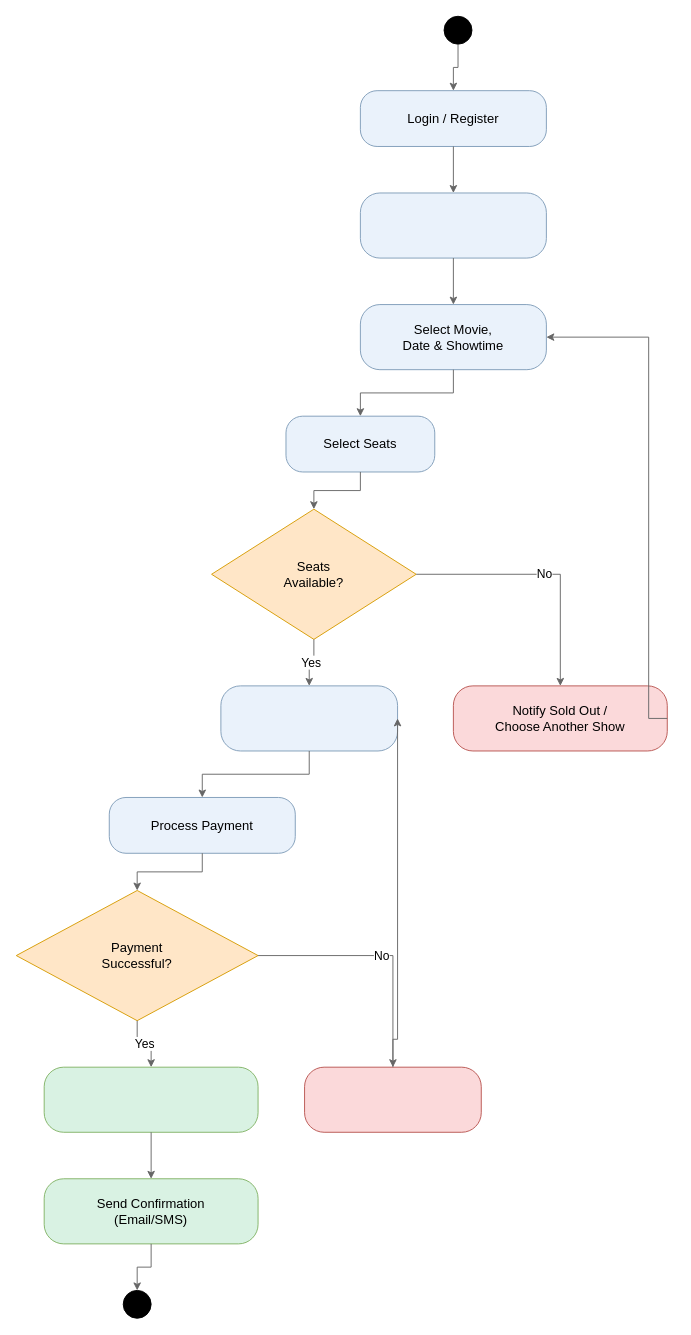
Some shapes in this 691 by 1335 pixel diagram are drawn without their labels. Here are the shapes that lost their labels. From the top down, the centre of each, then its label:
pixel 452 225: Browse Movies & Showtimes
pixel 309 718: Enter Payment Details
pixel 150 1099: Confirm Booking & Generate E-Ticket
pixel 392 1099: Show Error / Retry Payment
